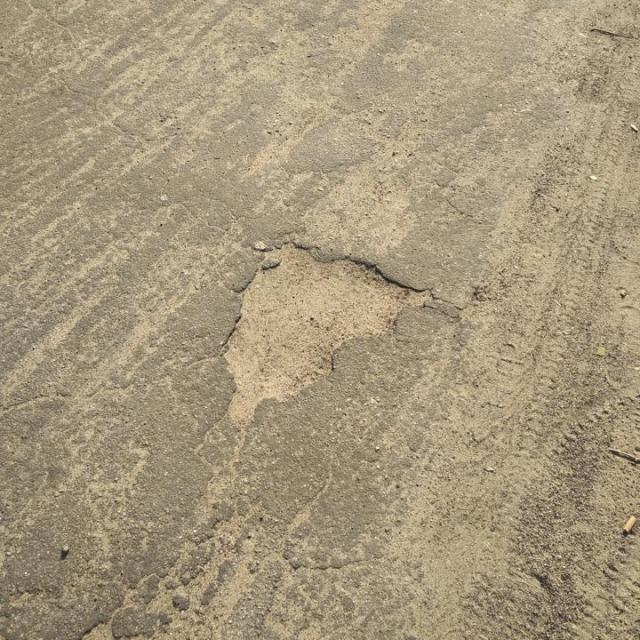pothole: (216, 238, 438, 421)
